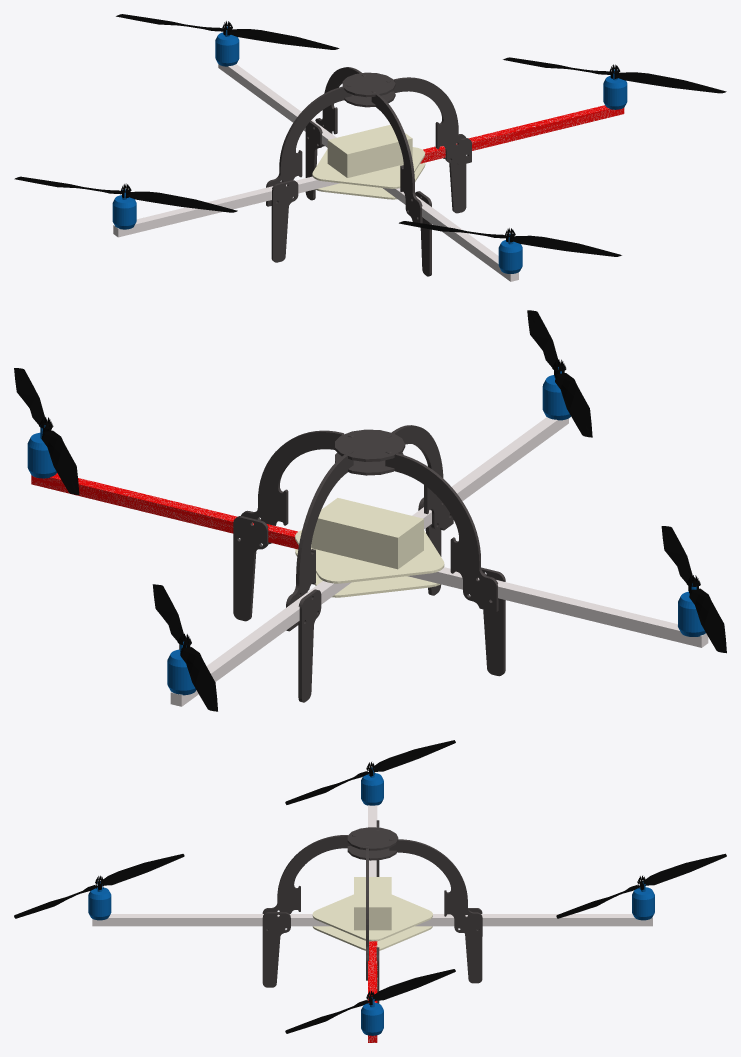
The model's file is plus_quad2.dae.
3 views of the same model, one above another, from view 1: azimuth 30°, elevation 25°; view 2: azimuth 150°, elevation 25°; view 3: azimuth 270°, elevation 25° (orthographic). The views are drawn at different scales.
Visible parts, largest first — view 1: body_ (×18), Component_1 (×8); view 2: body_ (×17), Component_1 (×8); view 3: body_ (×14), Component_1 (×4).
Part boxes in pixels (<box>): body_ (×18): <box>112,32,627,281</box>; Component_1 (×8): <box>14,14,726,256</box>; body_ (×17): <box>27,375,708,706</box>; Component_1 (×8): <box>14,310,726,711</box>; body_ (×14): <box>88,773,654,1042</box>; Component_1 (×4): <box>102,740,726,1000</box>.
Size of the model in its own units: 30.11 by 30.98 by 7.06.
